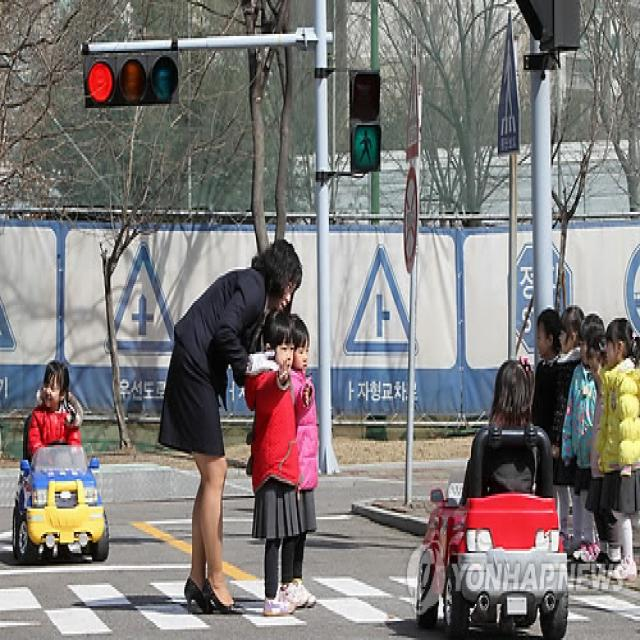red_light: (86, 54, 176, 110)
